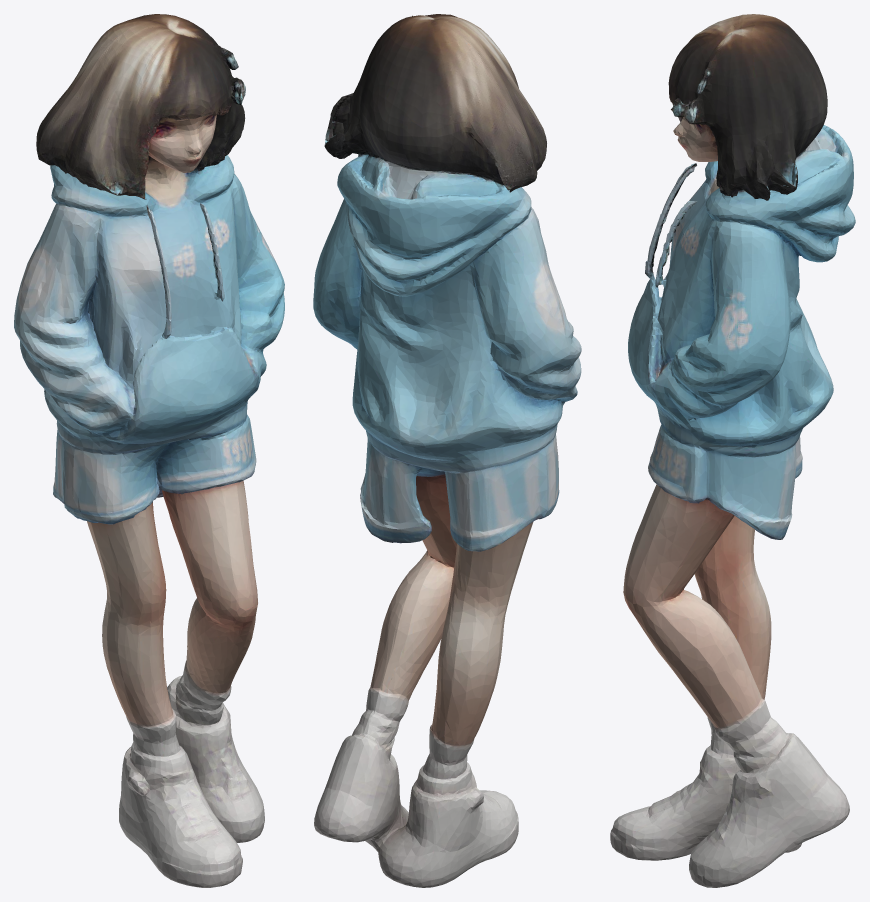
File: luna.glb
The picture shows the model from 3 angles, left to right: view 1: azimuth 30°, elevation 25°; view 2: azimuth 150°, elevation 25°; view 3: azimuth 270°, elevation 25°; orthographic projection. The views are drawn at different scales.
Parts seen in each view (by area): view 1: attic_luna; view 2: attic_luna; view 3: attic_luna.
Part boxes in pixels (<box>): attic_luna: <box>14,14,284,887</box>; attic_luna: <box>313,14,581,887</box>; attic_luna: <box>610,14,855,887</box>.
Bounding box in the file's own units: 0.32 × 1 × 0.2689.
1 material, 1 textured.
